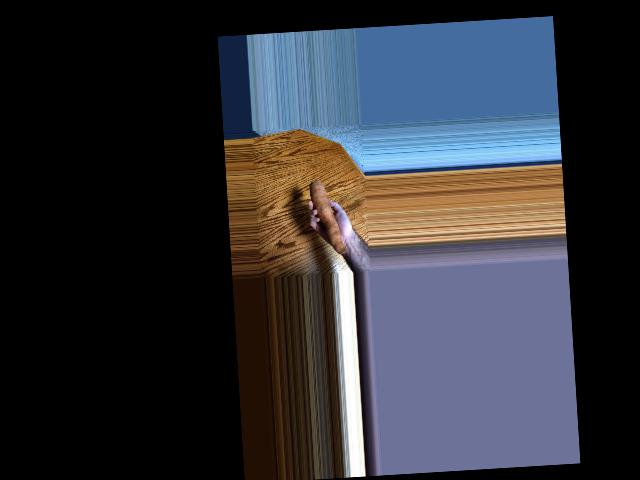sweet_potato: (304, 167, 341, 247)
